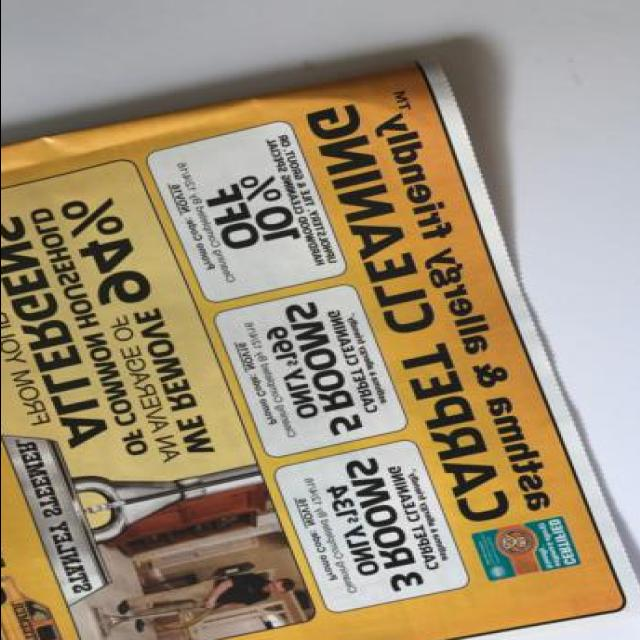kertas: (0, 50, 640, 640)
